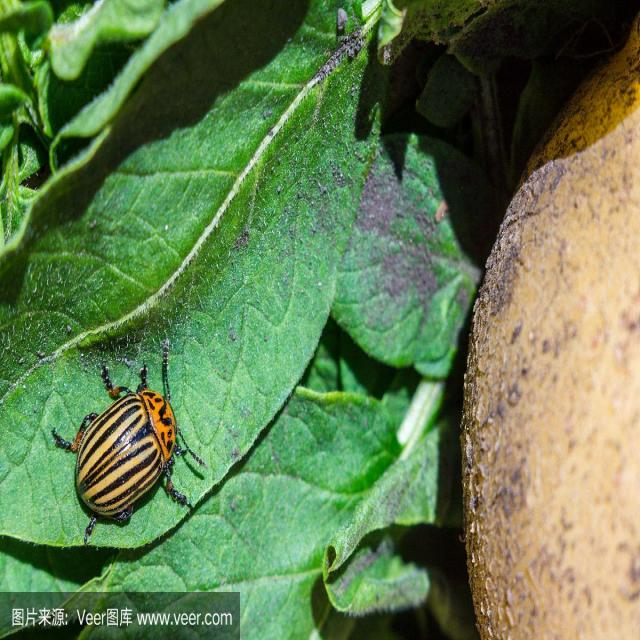ShuCaiHuaBanChong-Grown-: (54, 344, 189, 534)
